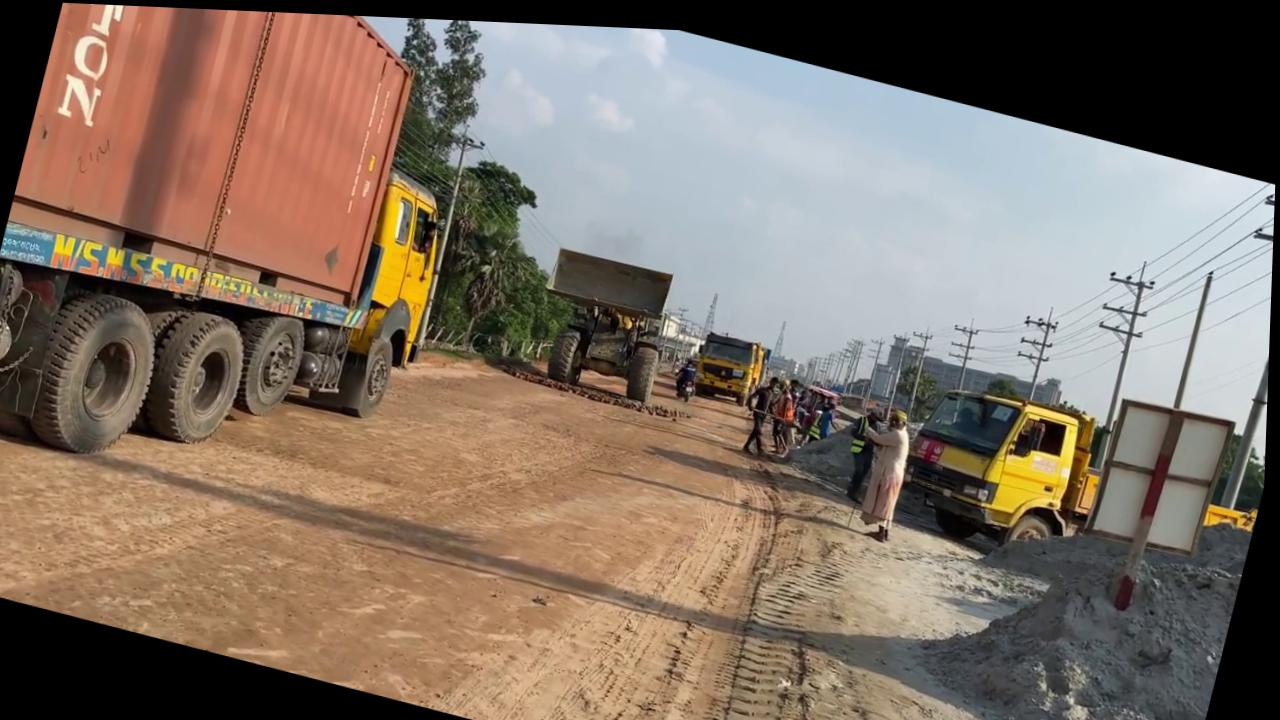Motorcycle: (672, 359, 701, 396)
Pole: (1115, 252, 1219, 606), (1221, 175, 1276, 503)
Tree: (0, 0, 508, 533), (893, 360, 1118, 559), (524, 236, 683, 400), (688, 319, 776, 404), (791, 373, 847, 442), (1205, 484, 1261, 527)
